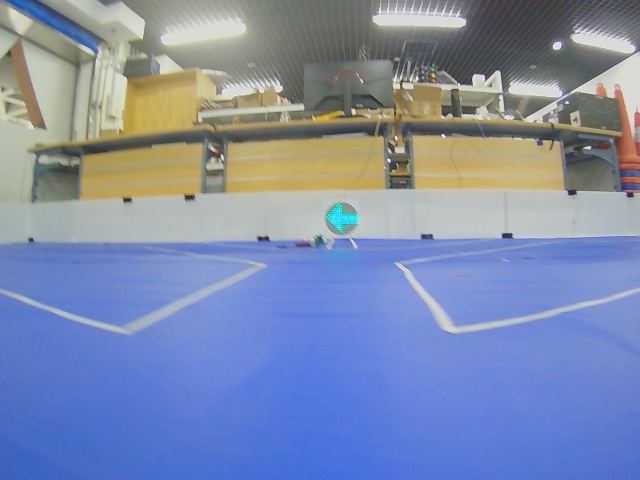left_green: (325, 202, 359, 235)
